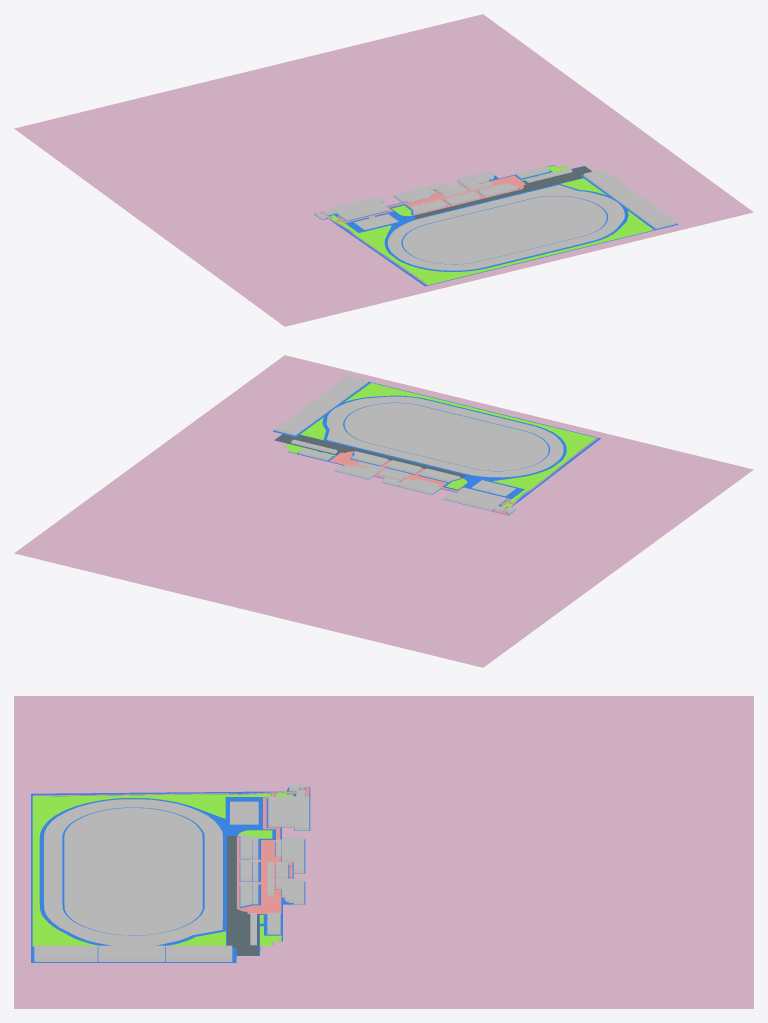
File: njc-b3-v4-28-4.glb
3 renders of one model, top to bottom at view 1: azimuth 30°, elevation 25°; view 2: azimuth 150°, elevation 25°; view 3: azimuth 270°, elevation 25°, orthographic. The views are drawn at different scales.
Visible parts, largest first — view 1: Grey, None, Base, Grass, Foot, Drive, ISH; view 2: Grey, None, Base, Grass, Drive, Foot, ISH; view 3: Grey, None, Base, Grass, Foot, Drive, ISH.
Part boxes in pixels (x1,y1,x2,y2): Grey: (14,14,753,326); None: (354,166,676,270); Base: (314,165,678,286); Grass: (330,165,653,284); Foot: (314,175,525,285); Drive: (413,166,591,218); ISH: (331,196,388,220); Grey: (14,355,753,667); None: (275,375,563,496); Base: (273,381,600,515); Grass: (284,383,596,507); Drive: (275,434,465,477); Foot: (329,438,597,514); ISH: (444,487,505,510); Grey: (14,696,753,1008); None: (34,799,304,961); Base: (31,787,310,962); Grass: (32,792,293,946); Foot: (33,787,309,914); Drive: (227,836,258,955); ISH: (268,796,309,830).
Size of the model in its own units: 44.96 by 0.2 by 44.96.
